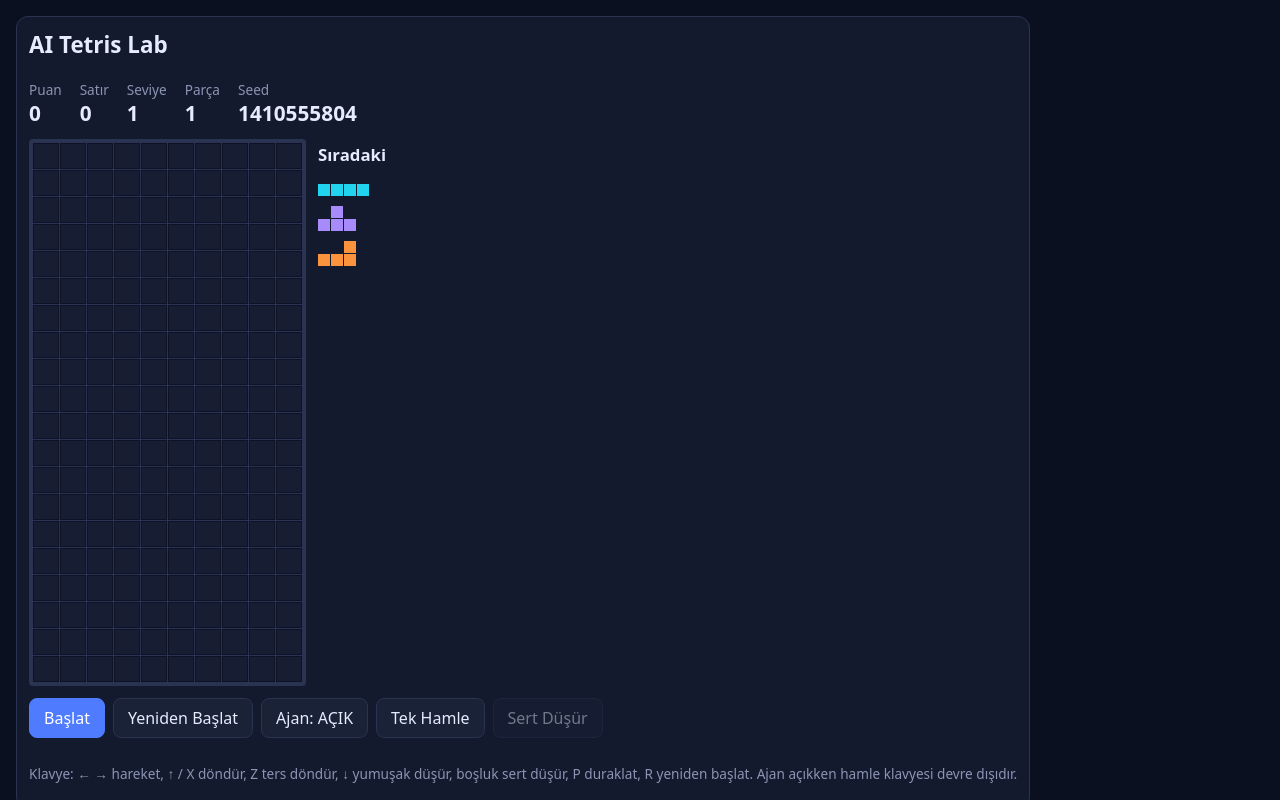
App — başlatma, duraklatma ve yeniden başlatma › Başlat/Duraklat düğmesi durumu değiştirir
The image size is (1280, 800).
Click the button with test id "start-pause" at (67, 718), box [29, 698, 105, 738]
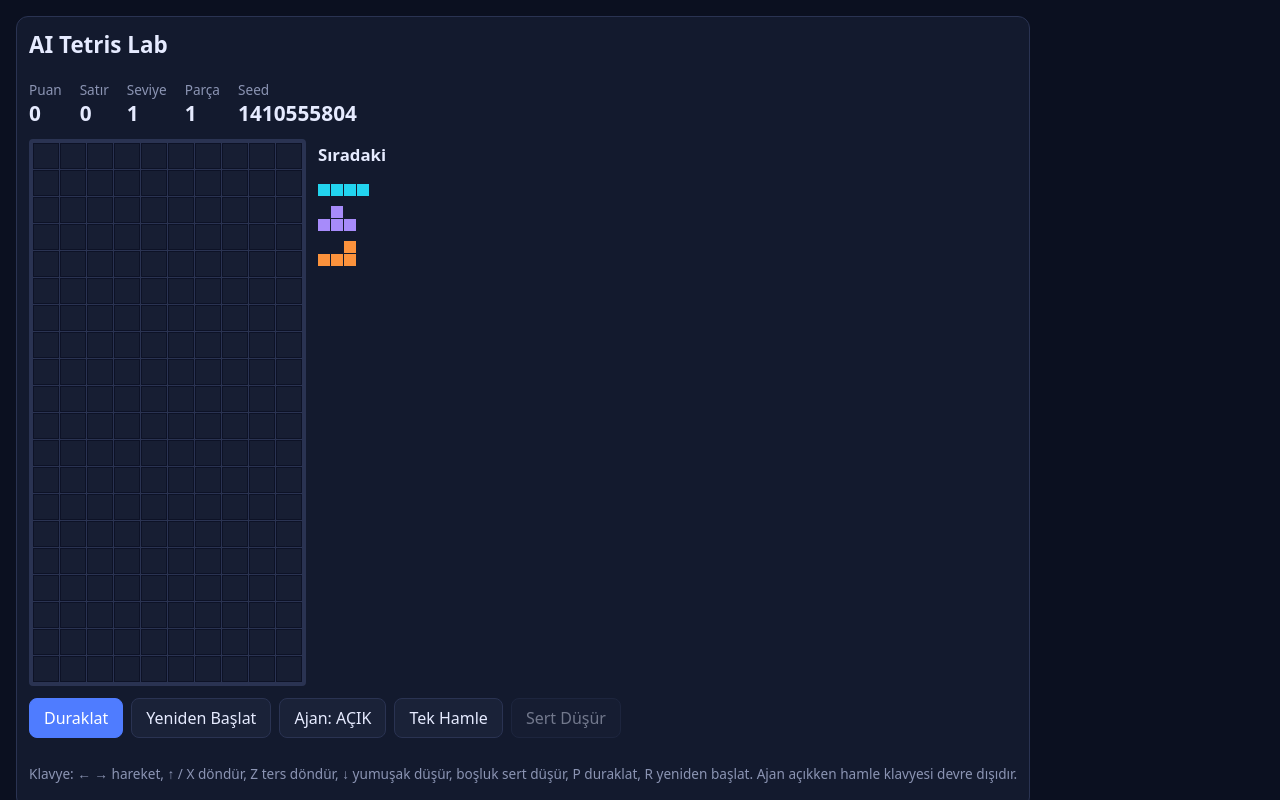
Expected: the button with test id "start-pause" reads "Duraklat"
Click the button with test id "start-pause" at (76, 718), box [29, 698, 123, 738]
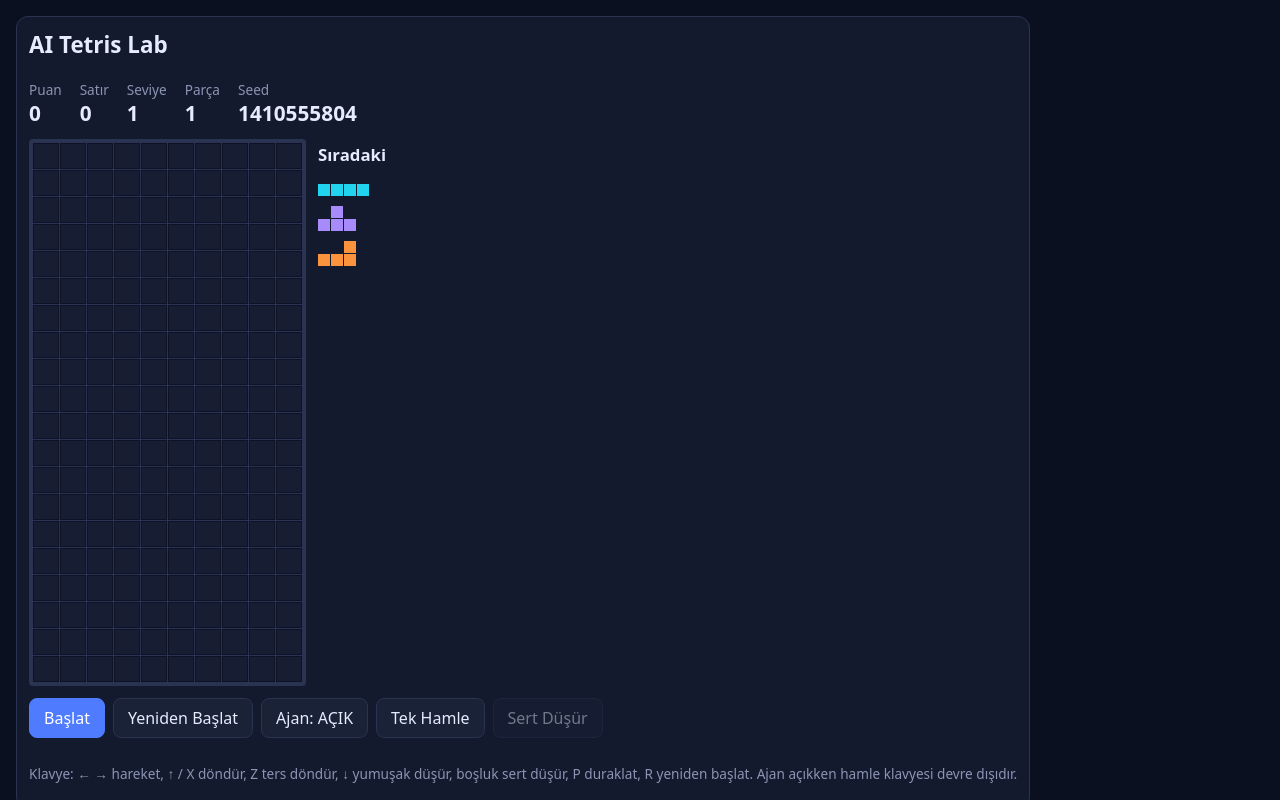
Expected: the button with test id "start-pause" reads "Başlat", [29, 698, 105, 738]
